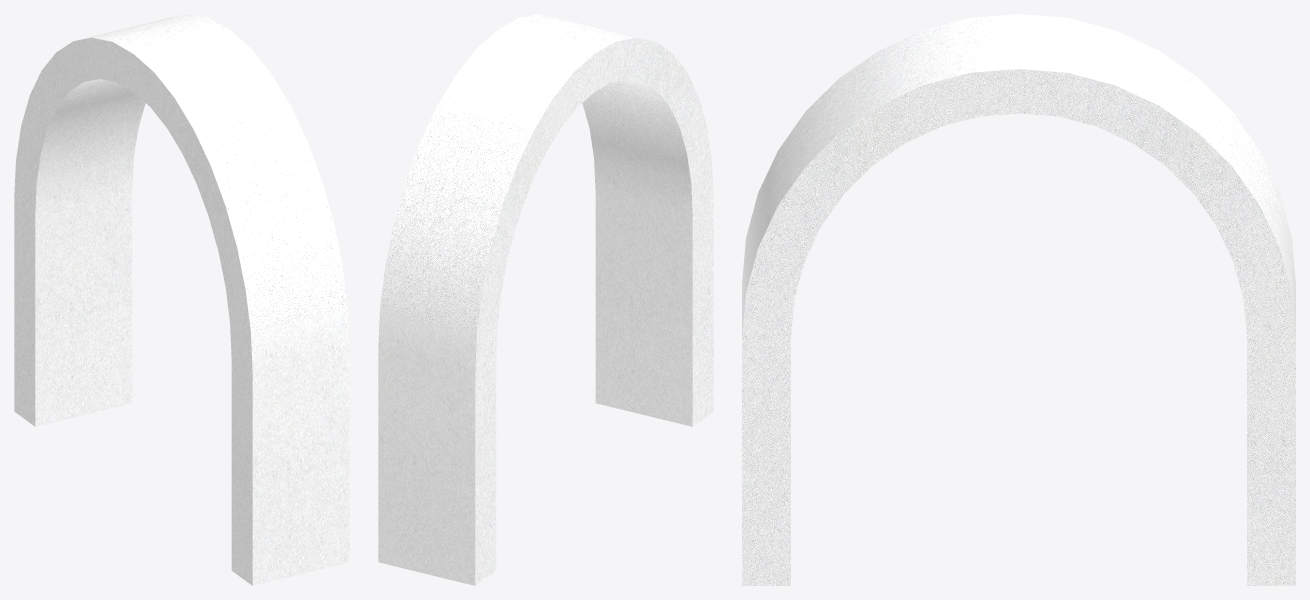
The model's file is Tunnel.glb.
3 views of the same model, side by side, from view 1: azimuth 30°, elevation 25°; view 2: azimuth 150°, elevation 25°; view 3: azimuth 270°, elevation 25° (orthographic). The views are drawn at different scales.
Parts seen in each view (by area): view 1: Suidao_Kou; view 2: Suidao_Kou; view 3: Suidao_Kou.
Boxes of the visible parts, x1,y1,x2,y2 form: Suidao_Kou: (14, 14, 349, 585); Suidao_Kou: (378, 14, 713, 585); Suidao_Kou: (742, 14, 1295, 585).
Bounding box in the file's own units: 2 × 8.75 × 8.5.
1 material, 1 textured.
